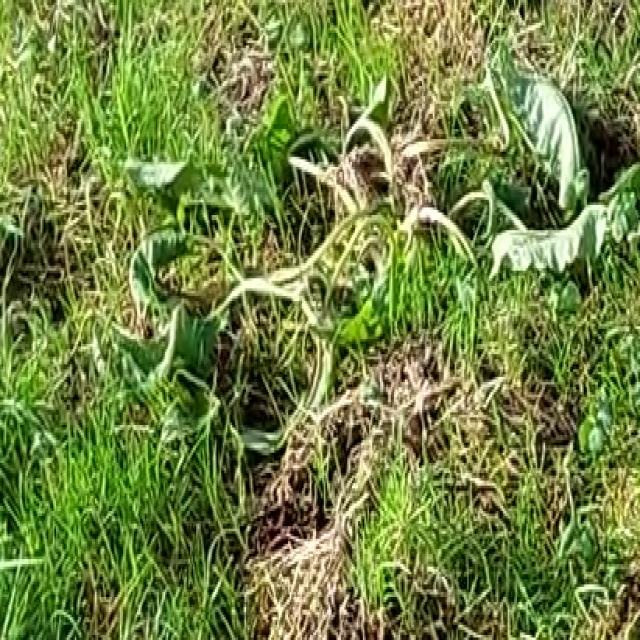organic waste: (110, 18, 636, 476)
